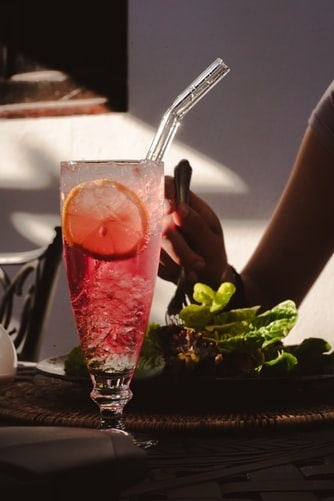whiskey: (64, 158, 164, 447)
